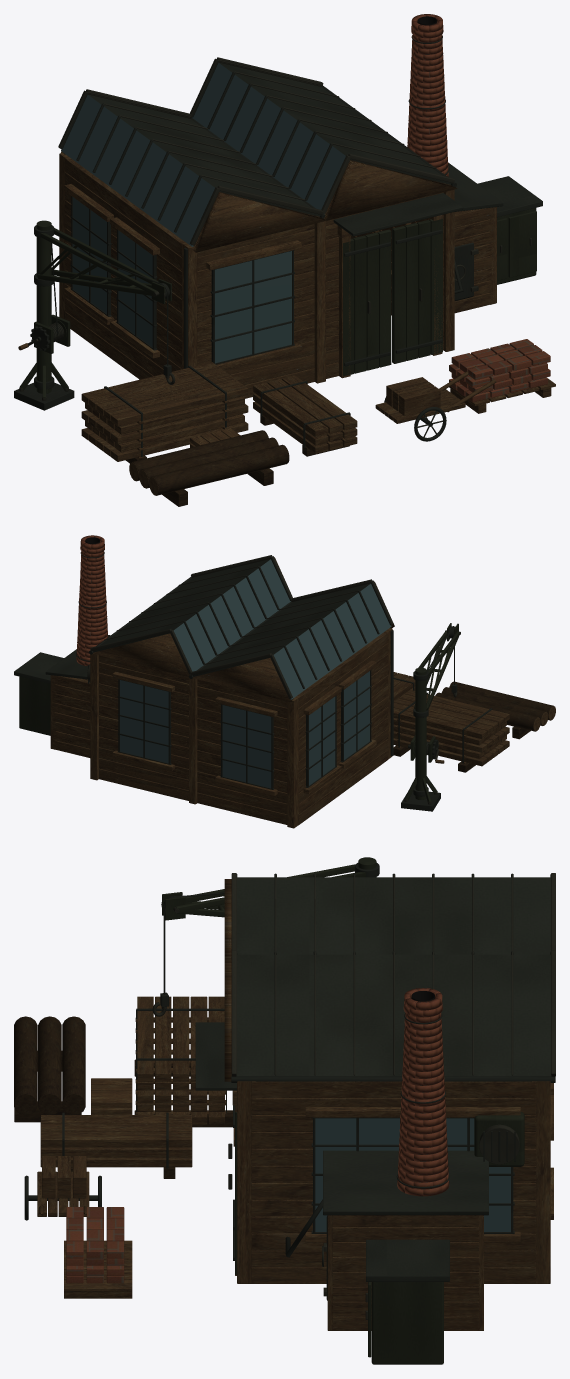
File: engineering.glb
The picture shows the model from 3 angles, top to bottom: view 1: azimuth 30°, elevation 25°; view 2: azimuth 150°, elevation 25°; view 3: azimuth 270°, elevation 25°; orthographic projection. The views are drawn at different scales.
Parts seen in each view (by area): view 1: Factory Weathered timber; view 2: Factory Weathered timber; view 3: Factory Weathered timber.
Part boxes in pixels (x1,y1,x2,y2): Factory Weathered timber: (14,14,555,506); Factory Weathered timber: (14,535,555,828); Factory Weathered timber: (14,857,555,1364).
Size of the model in its own units: 2 by 0.9449 by 1.46.
11 materials, 8 textured.
